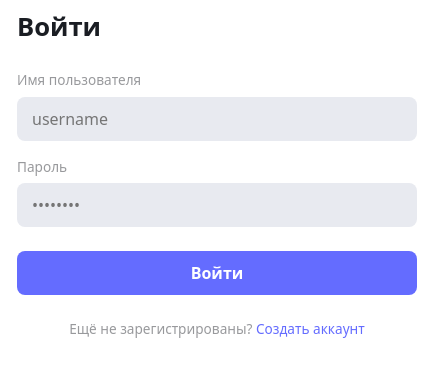
SignInPage › clears the error message when typing in the password field
This screenshot has width=435, height=380.
Click the button "Войти" at (217, 273), box [17,251,417,295]
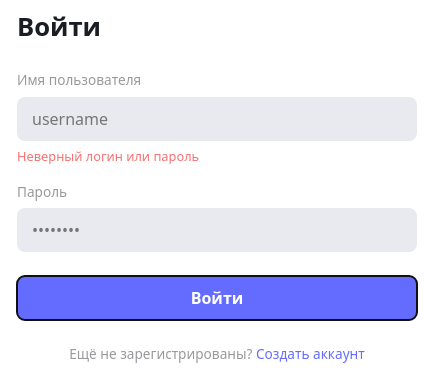
Check: the text "Неверный логин или пароль" is shown, box [17,147,199,165]
Type "x" into the password field with placeholder "••••••••" at (217, 230), box [17,208,417,252]
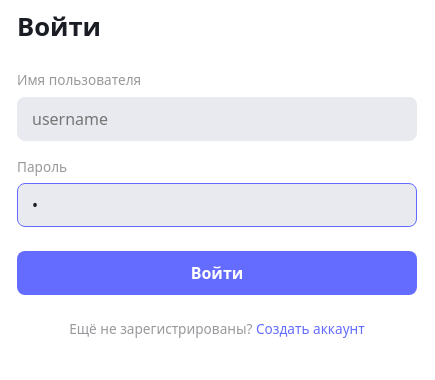
Check: the text "Неверный логин или пароль" is gone
